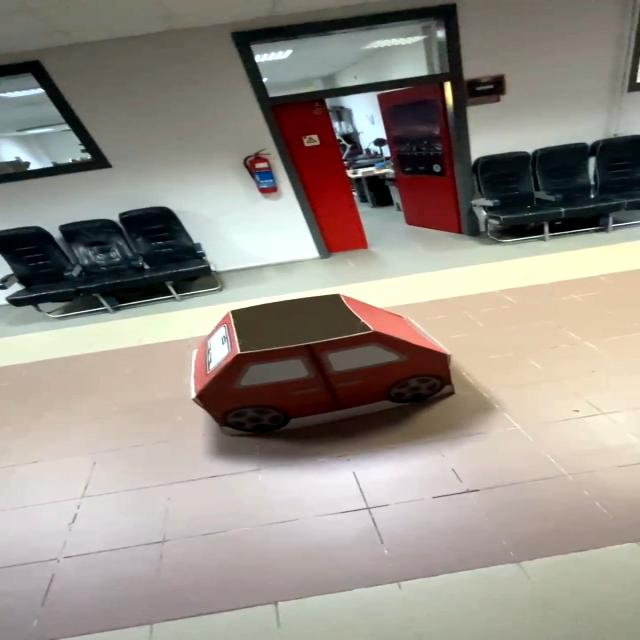red_car: (149, 289, 503, 459)
